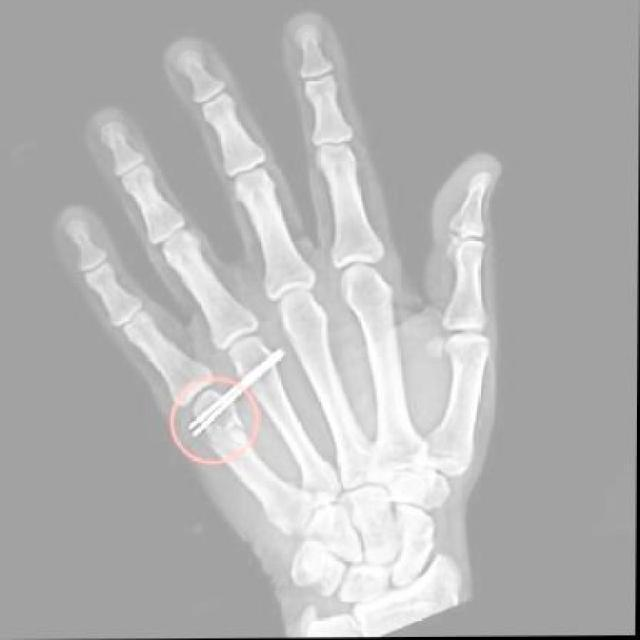Fracture: (175, 383, 245, 453)
